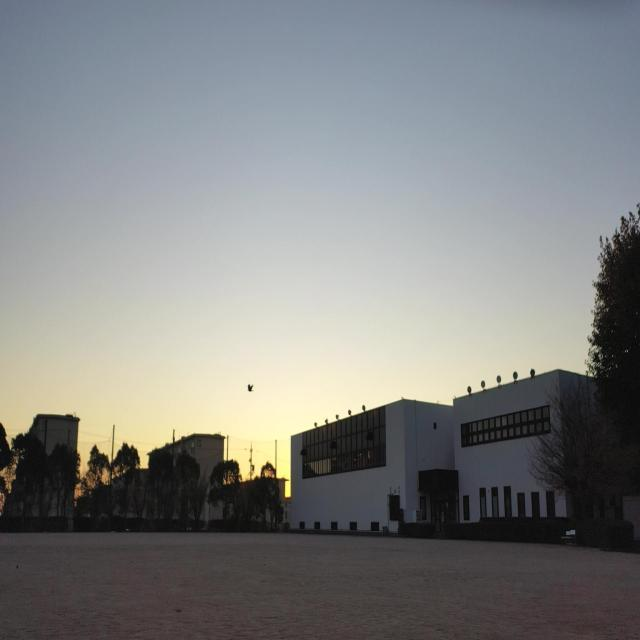Birds: (246, 383, 256, 395)
